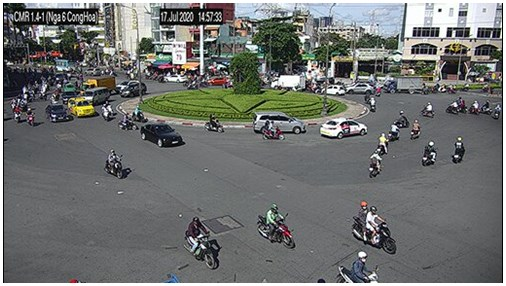xe_hoi: (252, 110, 307, 135), (141, 123, 183, 149), (319, 118, 368, 139), (68, 97, 94, 118), (120, 83, 148, 98), (45, 104, 68, 122), (116, 79, 139, 93), (345, 83, 373, 93), (321, 84, 344, 96), (205, 77, 226, 87), (61, 92, 75, 103)
xe_khach: (85, 86, 110, 104)
xe_may: (350, 201, 397, 255), (256, 202, 295, 251), (183, 216, 215, 270), (336, 252, 381, 283), (262, 118, 285, 143), (104, 149, 123, 179), (451, 136, 467, 165), (368, 148, 383, 178), (204, 113, 224, 134), (422, 140, 438, 166), (117, 113, 139, 131), (377, 132, 390, 156), (420, 101, 435, 118), (397, 110, 410, 129), (411, 119, 422, 141), (131, 107, 146, 123), (389, 121, 400, 142), (25, 107, 35, 127), (100, 103, 110, 123), (446, 100, 458, 115), (468, 101, 480, 115), (458, 96, 467, 113), (482, 100, 492, 115), (14, 105, 22, 123), (493, 103, 501, 120), (106, 101, 114, 117), (446, 83, 457, 94), (461, 82, 472, 93), (481, 82, 492, 92), (370, 96, 376, 112), (431, 82, 439, 93)
xe_tai: (384, 76, 423, 94), (83, 75, 116, 94), (271, 75, 305, 91)
